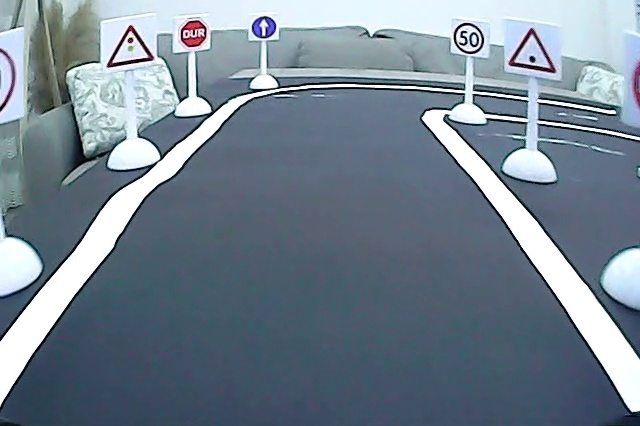green light: (503, 24, 560, 76)
red light: (103, 18, 156, 70)
speed limit 50: (451, 21, 488, 57)
stop sign: (176, 16, 210, 51)
